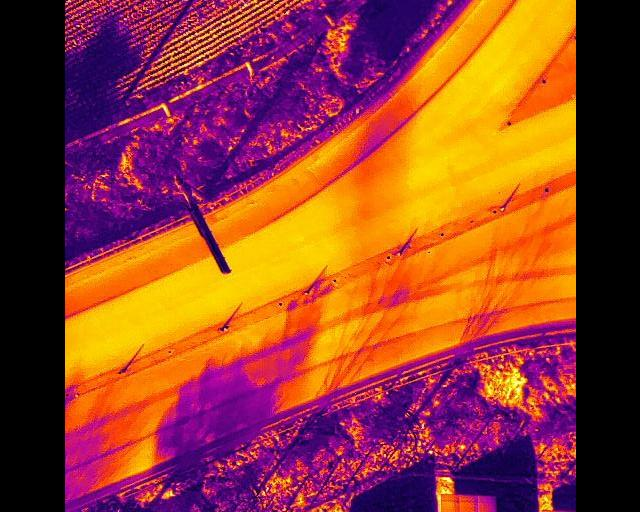No-Anomaly: (458, 494, 478, 512), (439, 494, 458, 512), (479, 496, 496, 512)
